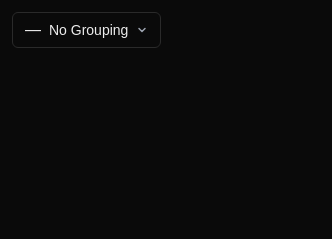
Scenario: GroupSelector › closes dropdown after selection
The width and height of the screenshot is (332, 239).
Click the button with aria-label "group by options". click: (87, 30)
box: [12,12,161,48]
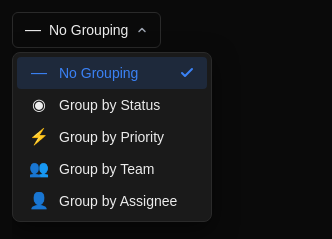
Now the list is shown, box [12,52,212,222]
Click the option "👥 Group by Team". click: (112, 169)
box: [17,153,207,185]
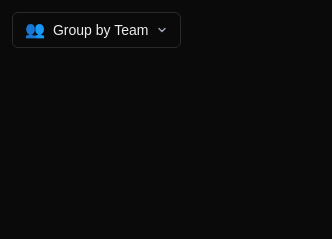
Now the list is gone
